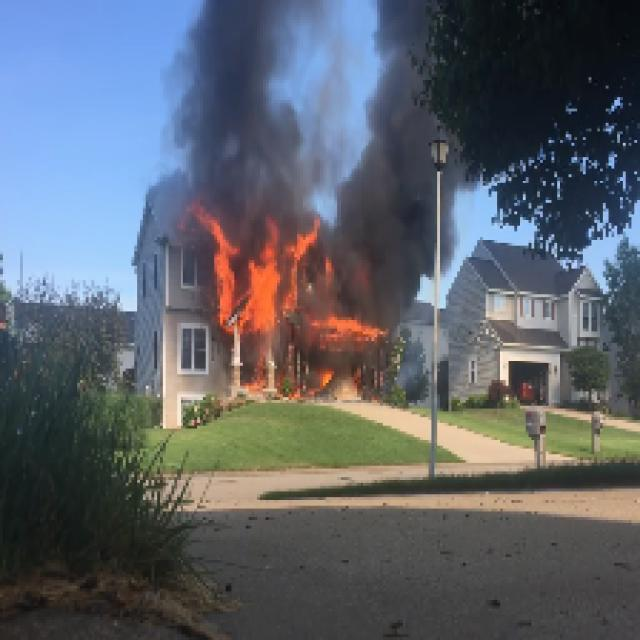Fire: (200, 217, 332, 329)
Smoke: (154, 3, 346, 214), (343, 2, 428, 312)
